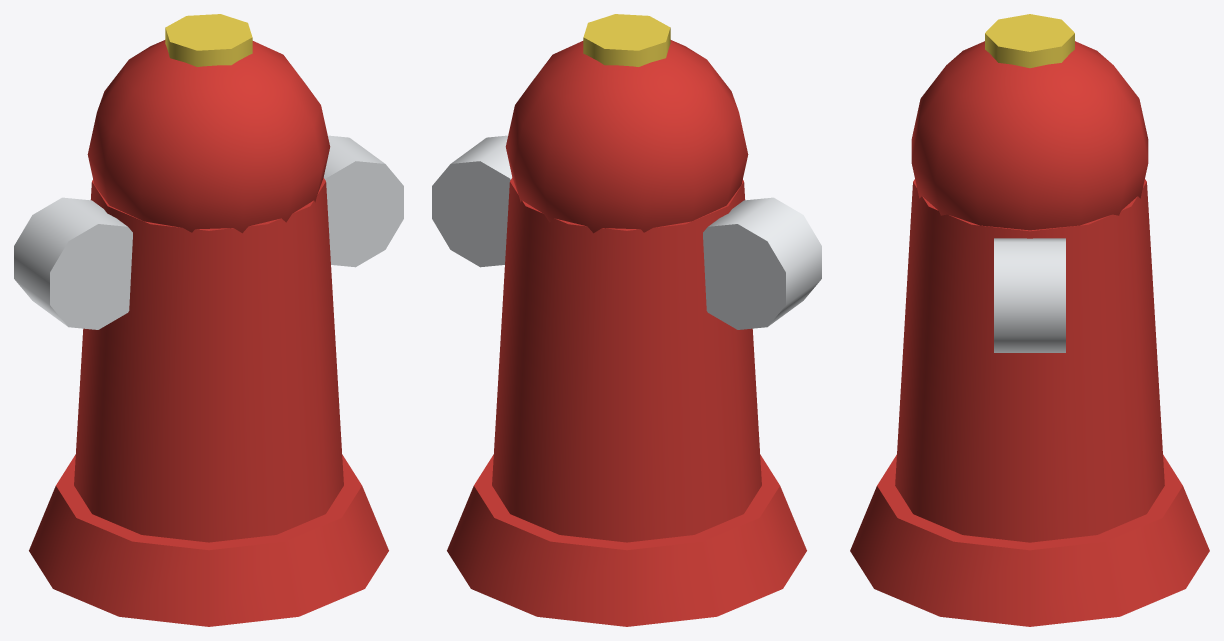
Rendered from hydrant.glb.
3 views of the same model, side by side, from view 1: azimuth 30°, elevation 25°; view 2: azimuth 150°, elevation 25°; view 3: azimuth 270°, elevation 25° (orthographic).
Parts seen in each view (by area): view 1: hydrant; view 2: hydrant; view 3: hydrant.
Part boxes in pixels (x1,y1,x2,y2): hydrant: (14, 14, 403, 626); hydrant: (432, 14, 821, 626); hydrant: (850, 14, 1209, 626).
Size of the model in its own units: 0.9073 by 1.27 by 0.8.
